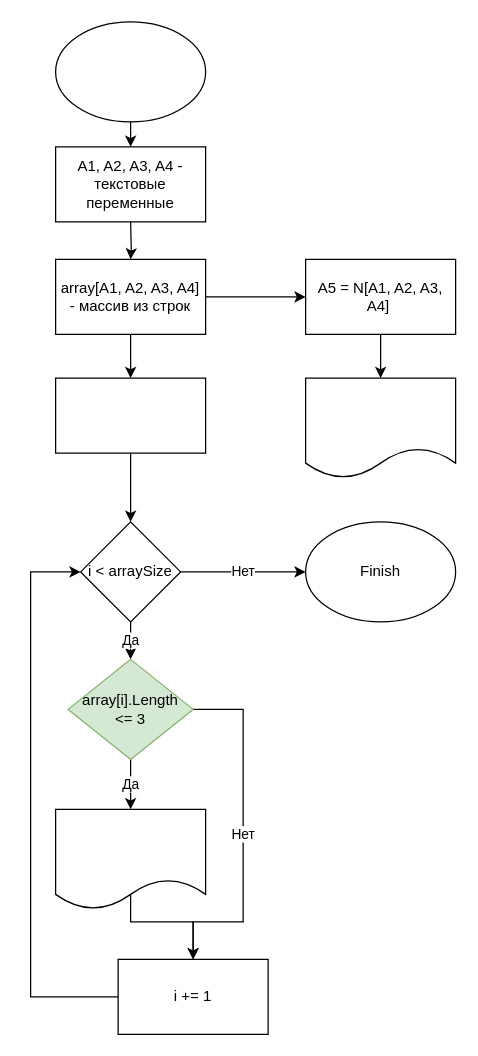
This 478x1056 diagram has some shape labels left out. The shapes that lost their labels are listed below. From the top down, each one's centre as x and y in pixels, then its label:
At [130,71]: "Start".
At [130,415]: "i = 0 arraySize = array.Length".
At [380,427]: "A5".
At [130,858]: "array[i]".
